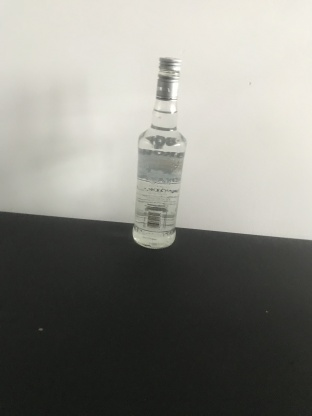nakretka: (154, 55, 182, 100)
